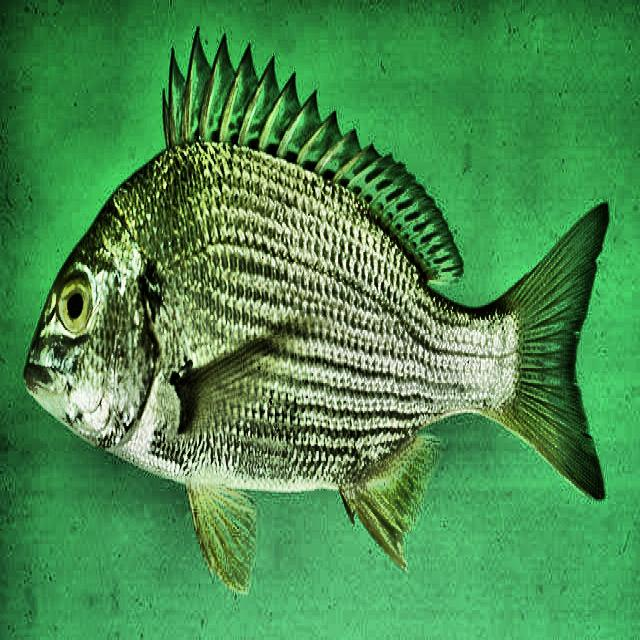fish: (23, 25, 611, 596)
